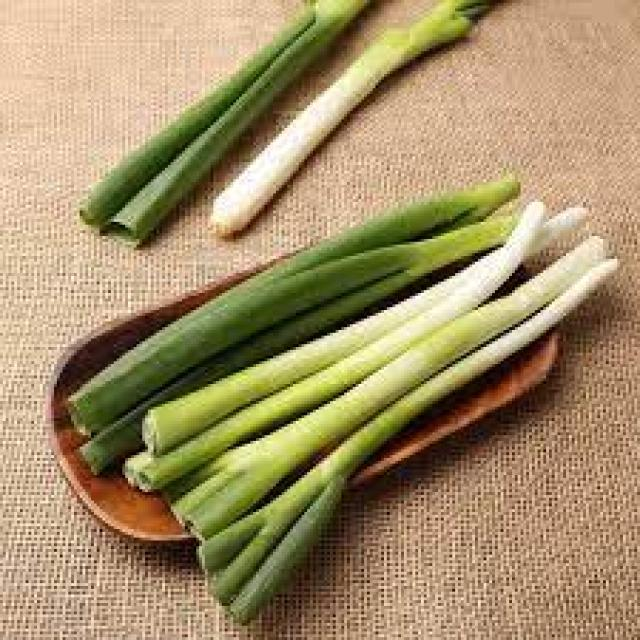spring_onion: (124, 201, 619, 624)
